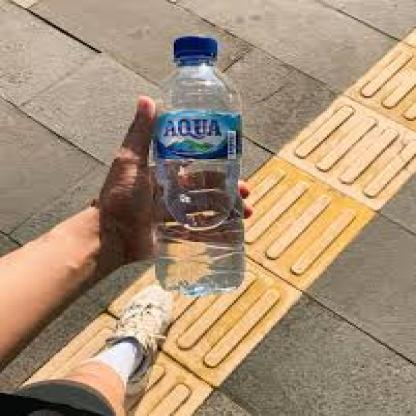plastic_bottles: (148, 35, 247, 294)
